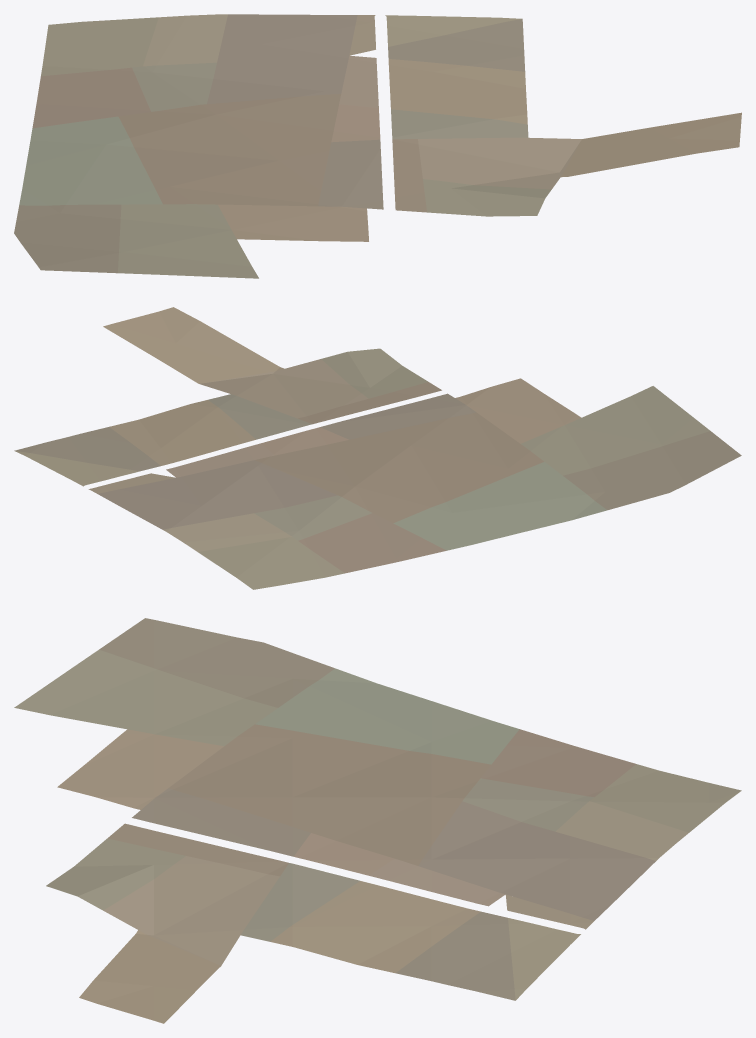
Rendered from farm_-5_13_soil.glb.
The picture shows the model from 3 angles, top to bottom: view 1: azimuth 30°, elevation 25°; view 2: azimuth 150°, elevation 25°; view 3: azimuth 270°, elevation 25°; orthographic projection. The views are drawn at different scales.
Visible parts, largest first — view 1: geometry_0; view 2: geometry_0; view 3: geometry_0.
Boxes of the visible parts, x1,y1,x2,y2 form: geometry_0: (14,14,741,278); geometry_0: (14,307,741,589); geometry_0: (14,618,741,1023).
Size of the model in its own units: 520 by 24.23 by 419.
